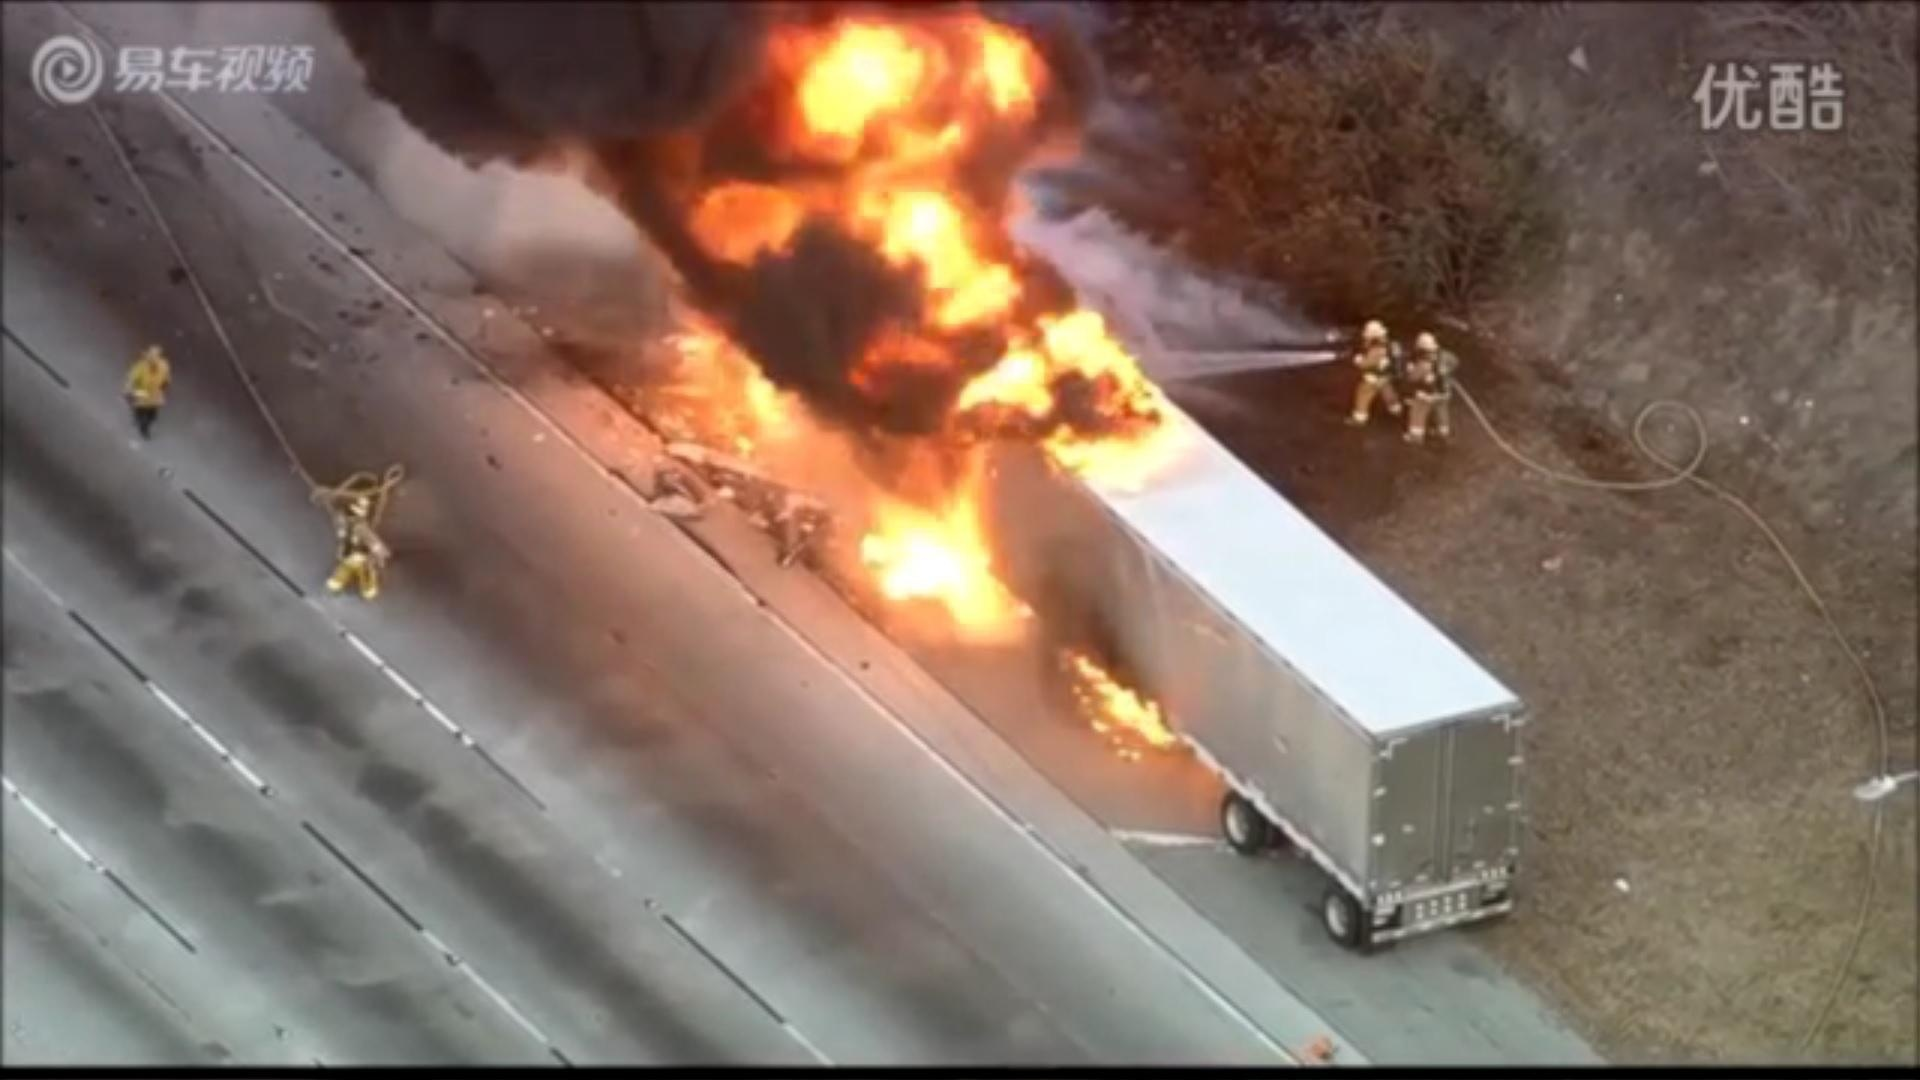fire: (740, 11, 1052, 339), (862, 491, 1019, 632), (1071, 653, 1174, 753)
